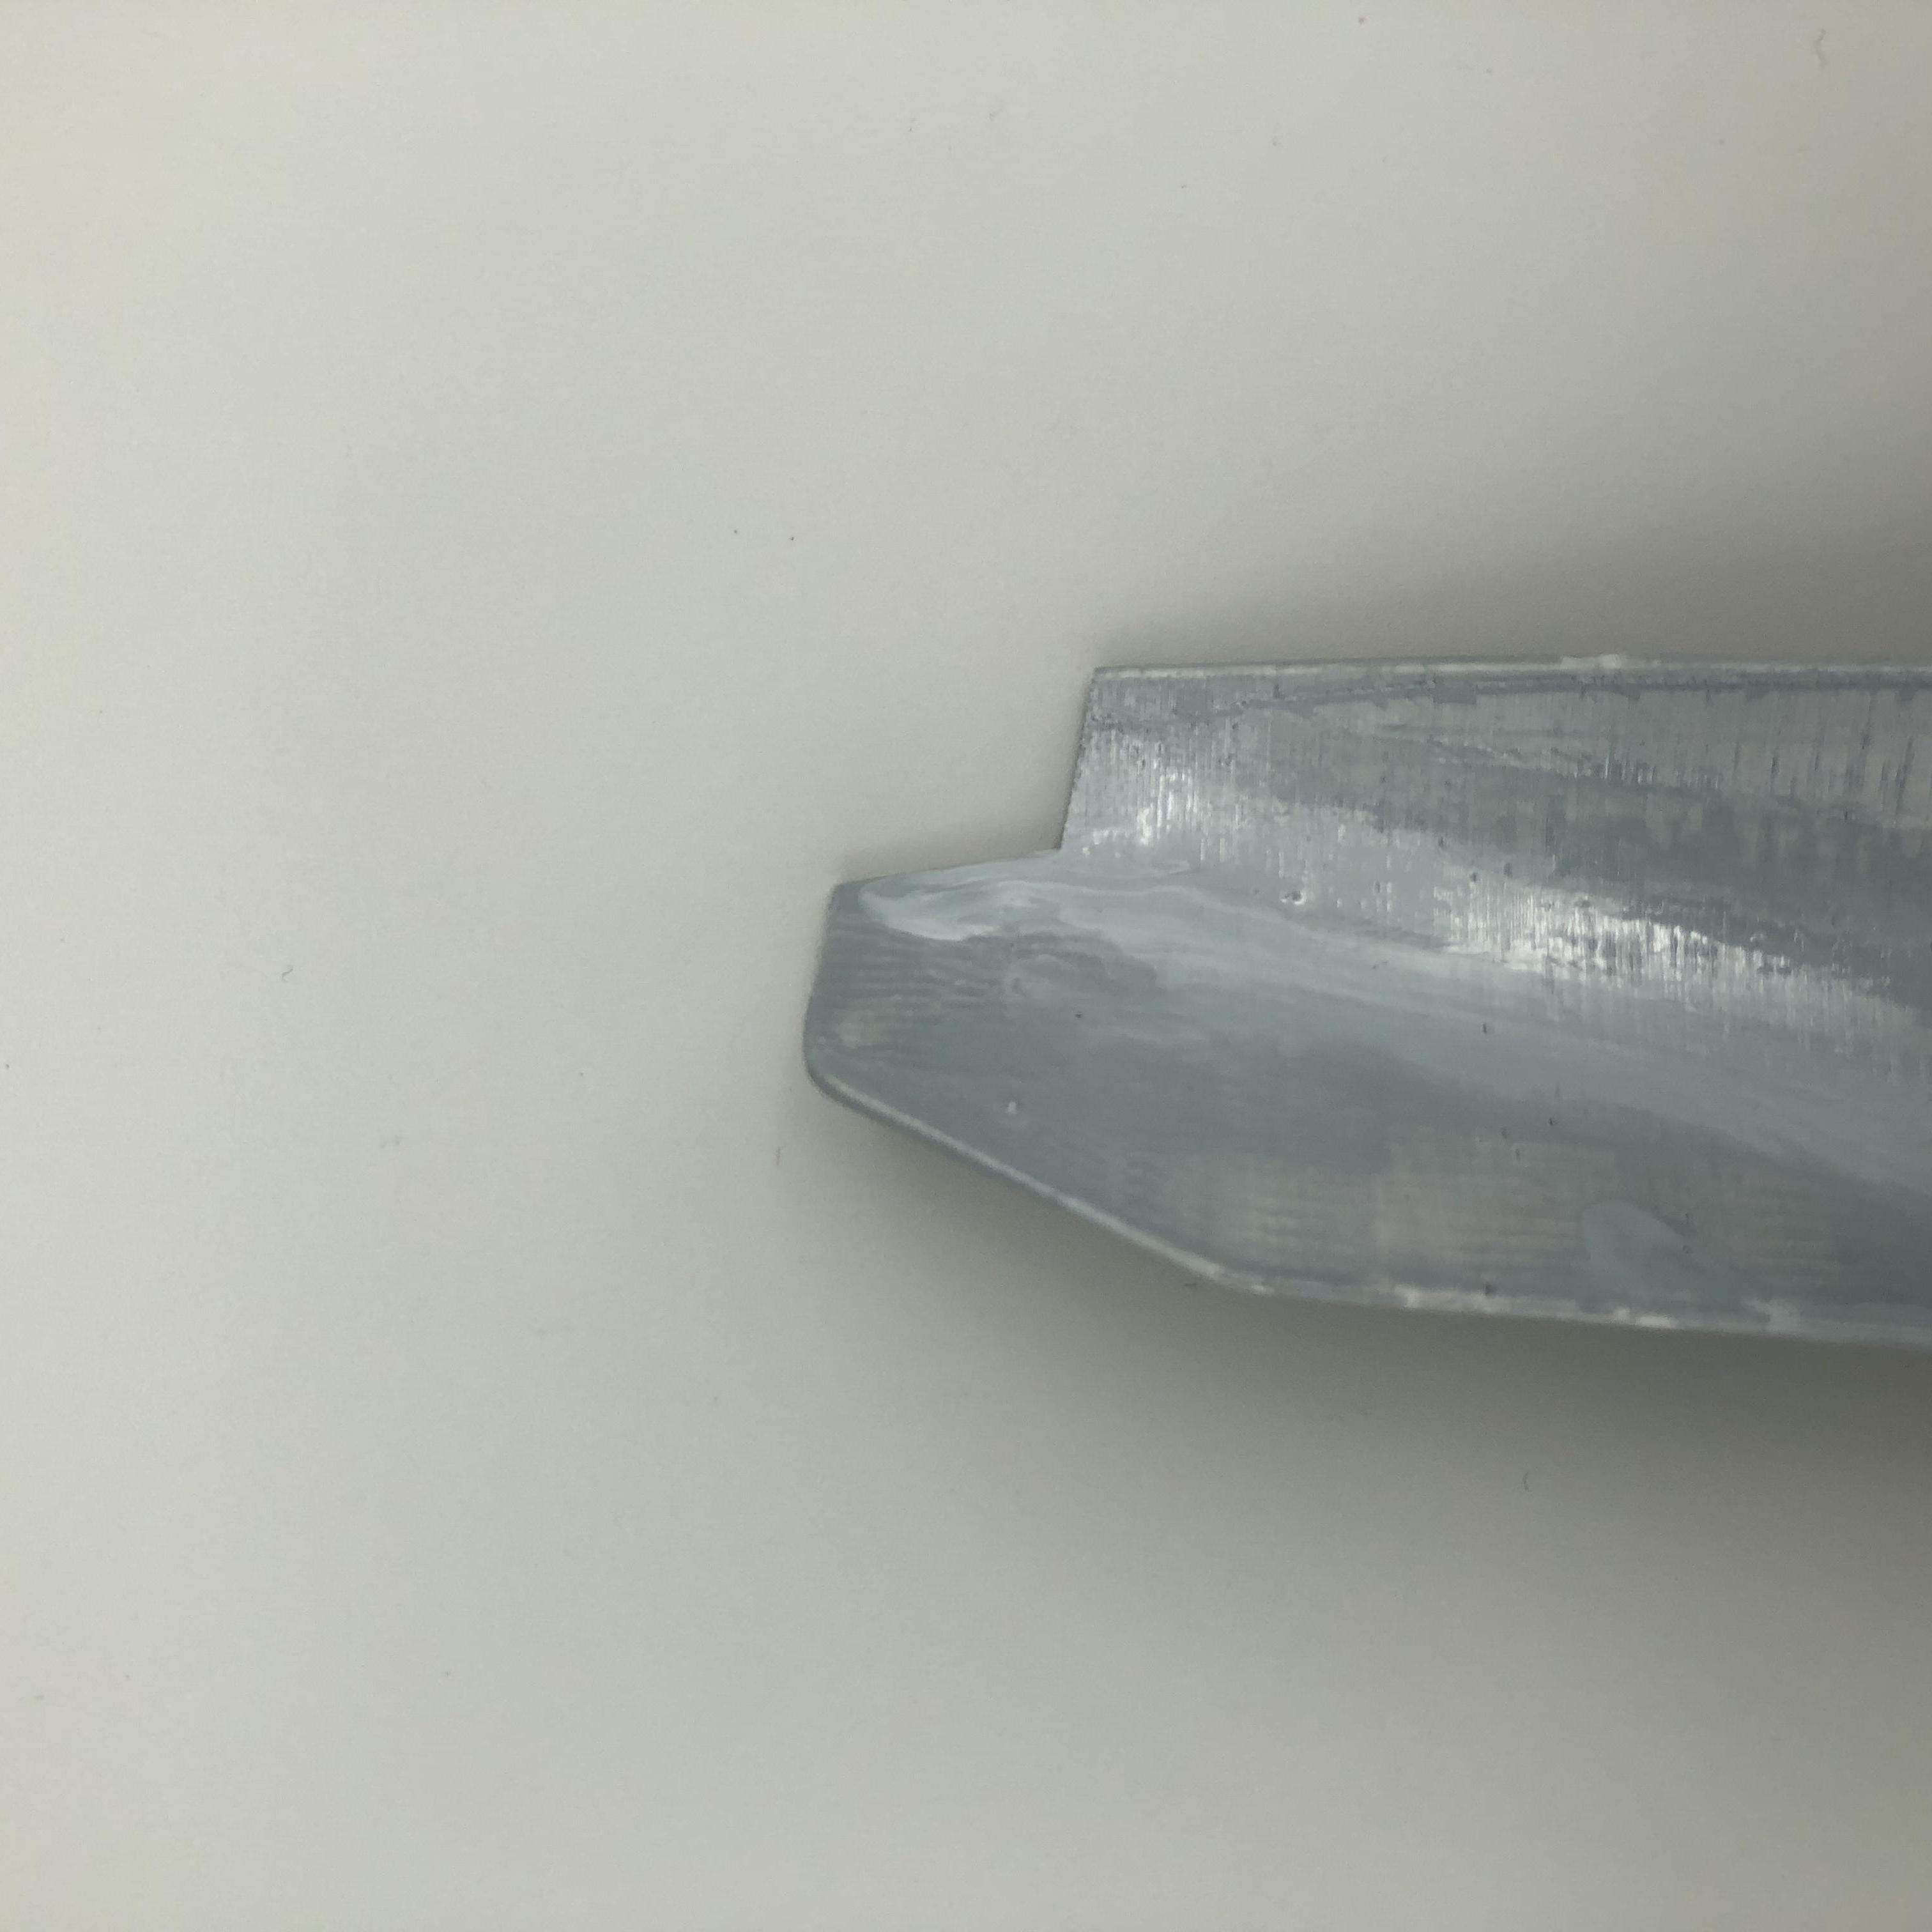fracture: (826, 676, 1143, 904)
